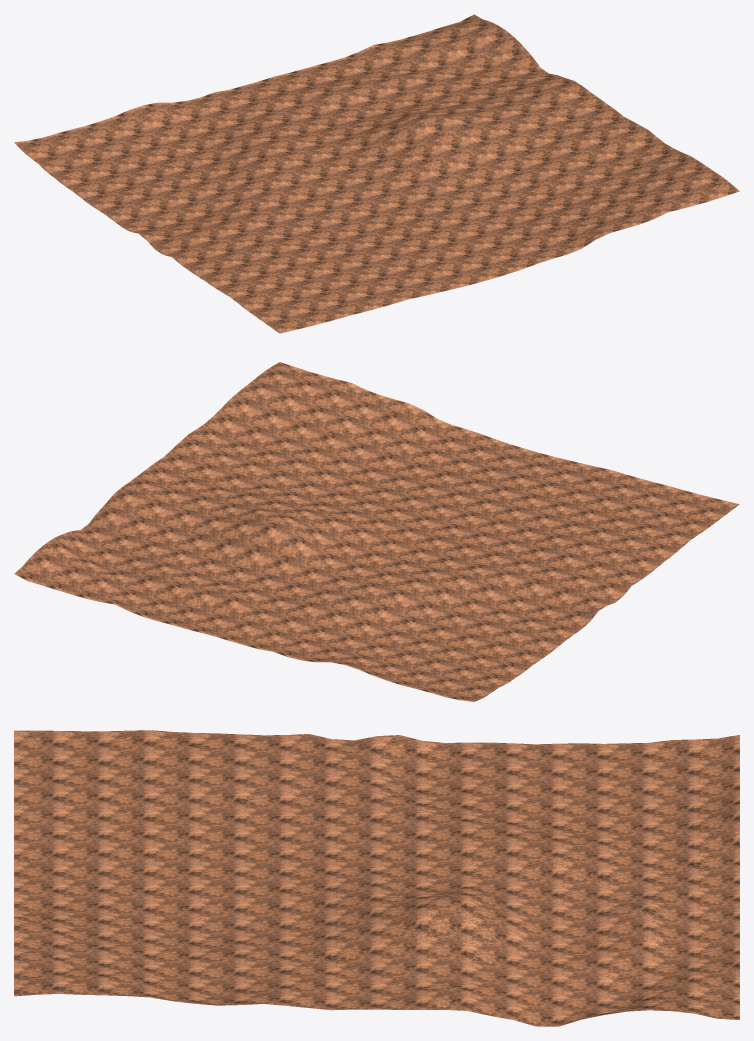
The model's file is terrain_06_19.dae.
The picture shows the model from 3 angles, top to bottom: view 1: azimuth 30°, elevation 25°; view 2: azimuth 150°, elevation 25°; view 3: azimuth 270°, elevation 25°; orthographic projection. The views are drawn at different scales.
Visible parts, largest first — view 1: terrain_06_19-node; view 2: terrain_06_19-node; view 3: terrain_06_19-node.
Part boxes in pixels (x1,y1,x2,y2): terrain_06_19-node: (14, 14, 739, 333); terrain_06_19-node: (14, 362, 739, 701); terrain_06_19-node: (14, 730, 739, 1026).
Size of the model in its own units: 128 by 128 by 11.13.
1 material, 1 textured.
